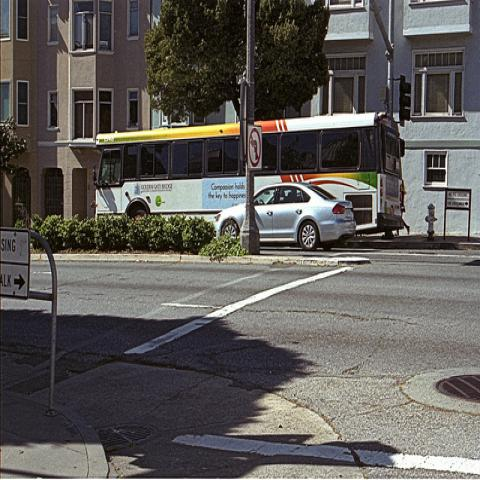bus: (91, 112, 405, 232)
car: (215, 182, 357, 250)
